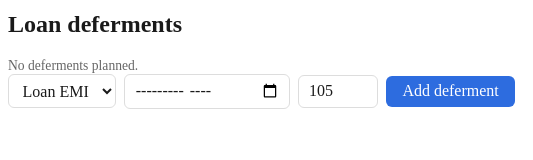
DefermentPlanner › rejects submission without a month
Click the button "Add deferment" at (451, 91), box [386,76,515,107]
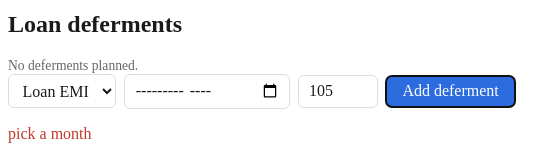
Now the text "pick a month" is shown, box [8,125,92,142]
